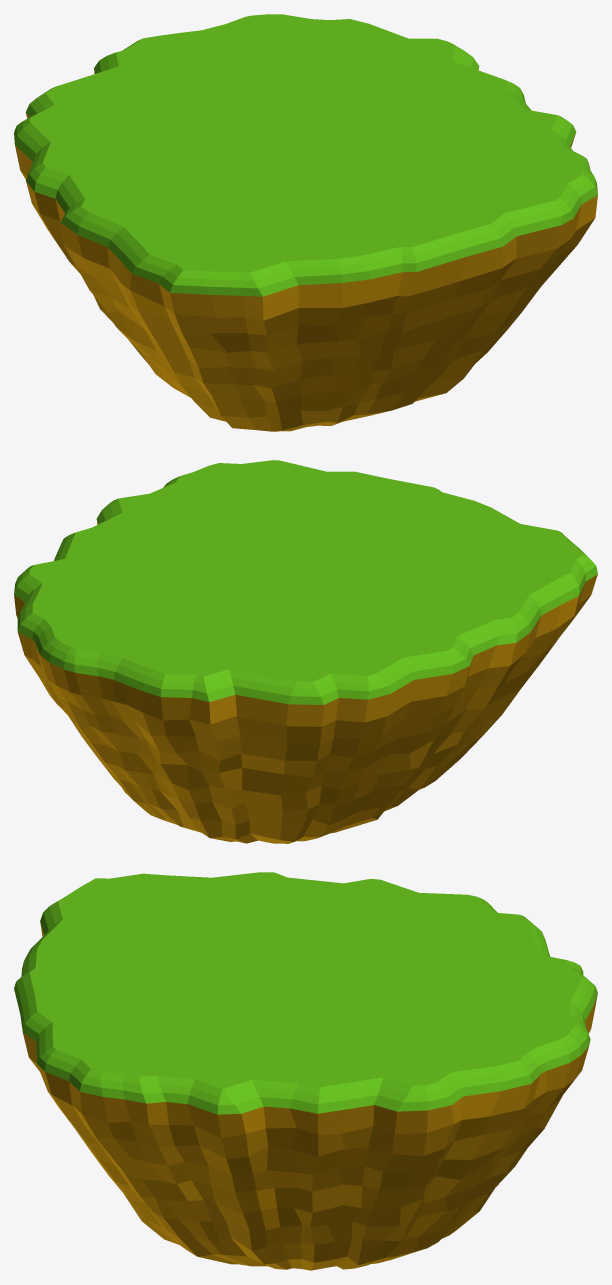
File: land2.fbx
3 renders of one model, top to bottom at view 1: azimuth 30°, elevation 25°; view 2: azimuth 150°, elevation 25°; view 3: azimuth 270°, elevation 25°, orthographic. The views are drawn at different scales.
Visible parts, largest first — view 1: Plane; view 2: Plane; view 3: Plane.
Boxes of the visible parts, left/top/right/bottom form: Plane: left=14, top=14, right=597, bottom=431; Plane: left=14, top=460, right=597, bottom=843; Plane: left=14, top=872, right=597, bottom=1270.
Size of the model in its own units: 3196 by 1564 by 3419.
1 material, 1 textured.
